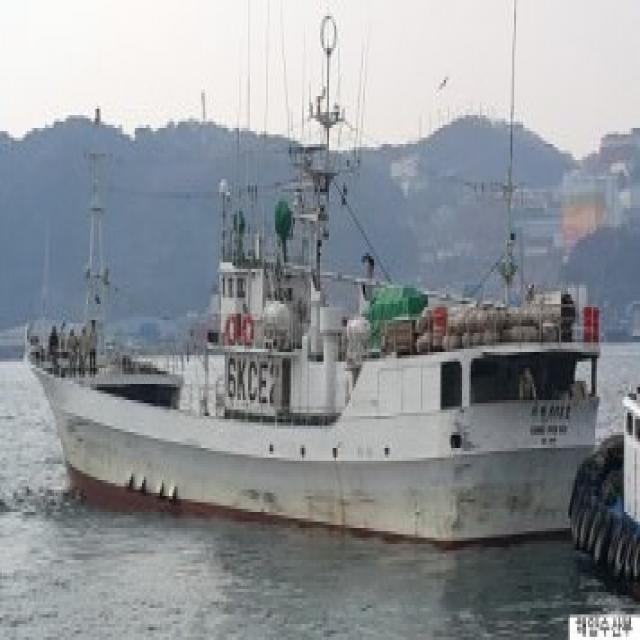Ship: (15, 43, 609, 555)
